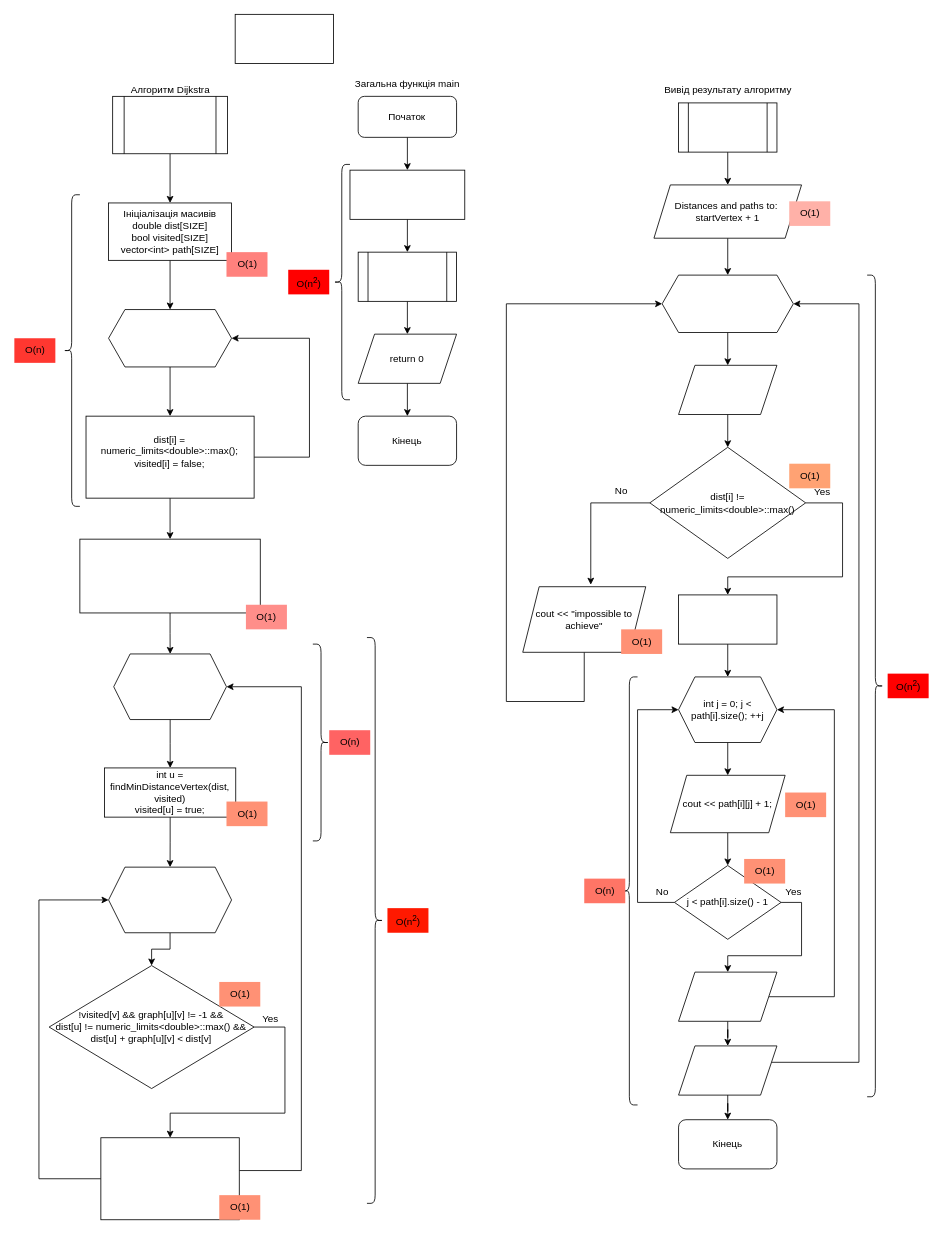
The diagram is 942 pixels wide and 1234 high, and some of its shapes have lost their labels. Here are the shapes that lost their labels. From the top down, the centre of each, then its label:
[284,39]: Ініціалізація константи const int SIZE = 11;
[169,125]: dijkstra(const double graph[SIZE][SIZE], int startVertex)
[727,127]: outResult
[407,194]: Задається св'язна матриця graph[11][11]
[407,276]: Виклик функції dijkstra(graph, 7)
[727,303]: int i = 0; i < SIZE; ++i
[170,338]: (int i = 0; i < SIZE; ++i
[727,389]: "Top " << i + 1
[169,575]: dist[startVertex] = 0; path[startVertex].push_back(startVertex);
[727,619]: "distance - " dist[i]
[169,686]: int count = 0; count < SIZE - 1; ++count
[170,899]: int v = 0; v < SIZE; ++v
[727,996]: cout << " -> "
[727,1070]: cout << endl
[169,1178]: dist[v] = dist[u] + graph[u][v] path[v] = path[u] path[v].push_back(v)
